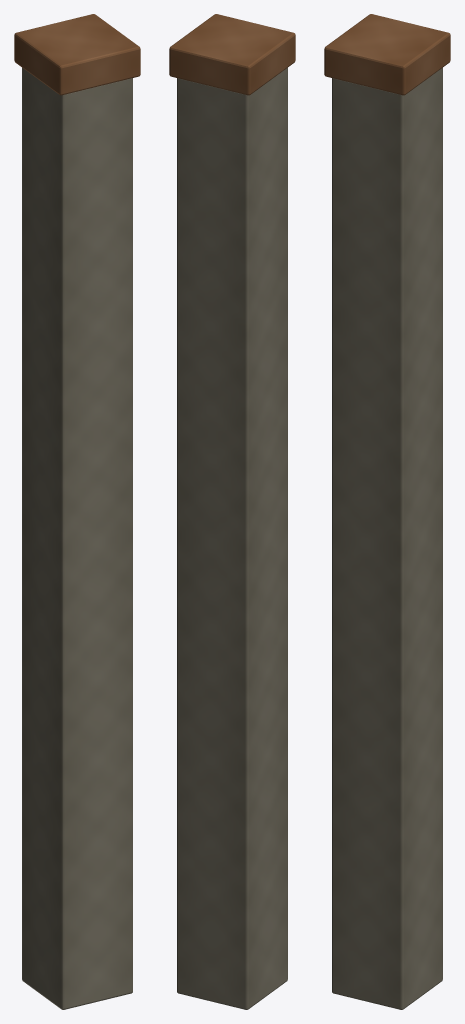
Rendered from MRP_StairPost_End_Left.fbx.
3 renders of one model, left to right at view 1: azimuth 30°, elevation 25°; view 2: azimuth 150°, elevation 25°; view 3: azimuth 330°, elevation 25°, orthographic.
Visible parts, largest first — view 1: Body; view 2: Body; view 3: Body.
Part boxes in pixels (<box>): Body: <box>14,14,140,1009</box>; Body: <box>169,14,295,1009</box>; Body: <box>324,14,450,1009</box>.
Bounding box in the file's own units: 0.085 × 0.95 × 0.085.
